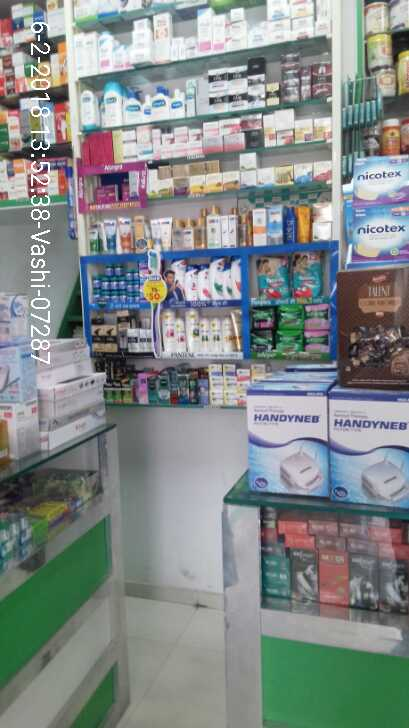beauty: (158, 307, 240, 356), (167, 255, 243, 301), (81, 306, 147, 355)
pharmacy: (248, 302, 334, 355), (78, 260, 142, 302), (288, 248, 328, 293), (250, 253, 289, 297)
